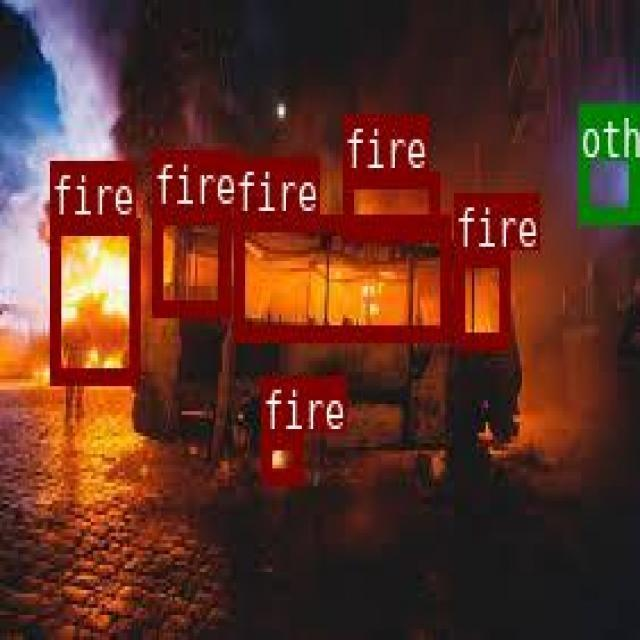fire: (233, 215, 448, 338), (48, 215, 138, 380), (151, 205, 229, 313), (342, 171, 437, 236), (452, 249, 507, 344), (259, 431, 300, 480)
